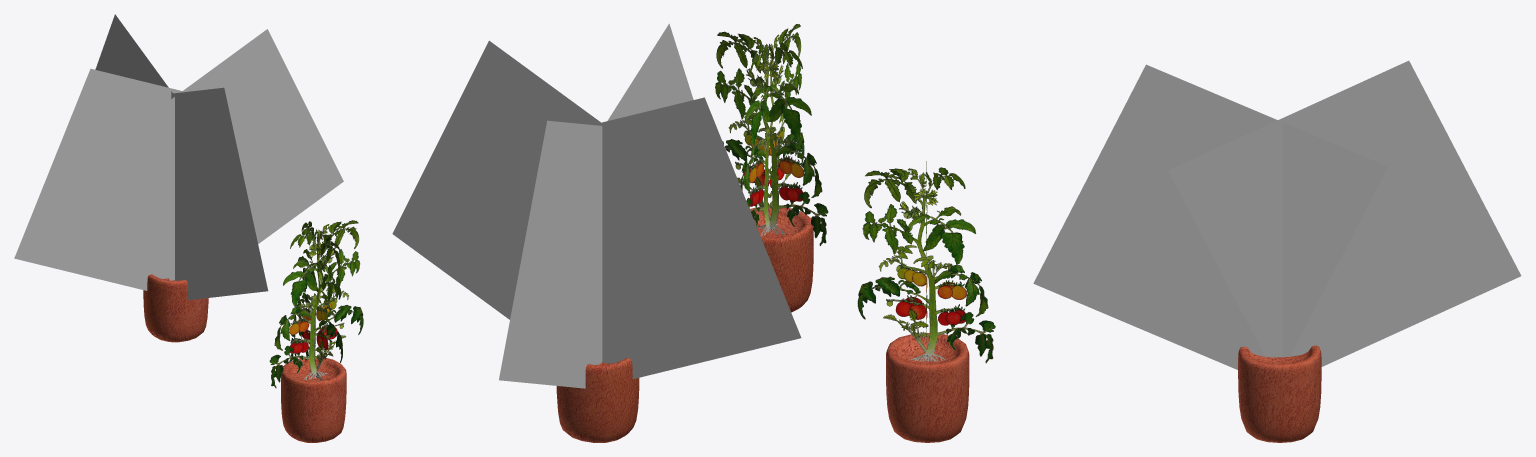
Rendered from plant1.fbx.
3 renders of one model, left to right at view 1: azimuth 30°, elevation 25°; view 2: azimuth 150°, elevation 25°; view 3: azimuth 270°, elevation 25°, orthographic. The views are drawn at different scales.
Visible parts, largest first — view 1: Plane, Plane.002, Plane.001, Plane.004, Cube.001, Cube, Plane.005, Plane.003; view 2: Plane.002, Plane, Plane.003, Plane.004, Cube, Plane.005, Plane.001, Cube.001; view 3: Plane.003, Plane.001, Plane.005, Cube.001, Cube.
Part boxes in pixels (box(x1,y1,x2,y2)): Plane: box(104, 29, 343, 280); Plane.002: box(14, 68, 181, 290); Plane.001: box(171, 87, 268, 300); Plane.004: box(269, 220, 363, 388); Cube.001: box(281, 357, 346, 442); Cube: box(143, 274, 208, 342); Plane.005: box(291, 221, 342, 380); Plane.003: box(95, 14, 172, 93); Plane.002: box(497, 97, 801, 378); Plane: box(392, 40, 600, 319); Plane.003: box(499, 120, 602, 388); Plane.004: box(715, 31, 828, 245); Cube: box(556, 358, 639, 442); Plane.005: box(740, 24, 804, 235); Plane.001: box(601, 23, 693, 362); Cube.001: box(750, 207, 813, 312); Plane.003: box(1168, 60, 1521, 366); Plane.001: box(1033, 64, 1387, 369); Plane.005: box(857, 167, 995, 363); Cube.001: box(886, 333, 969, 442); Cube: box(1238, 345, 1321, 442).
Bounding box in the file's own units: 1059 × 882 × 1458.
